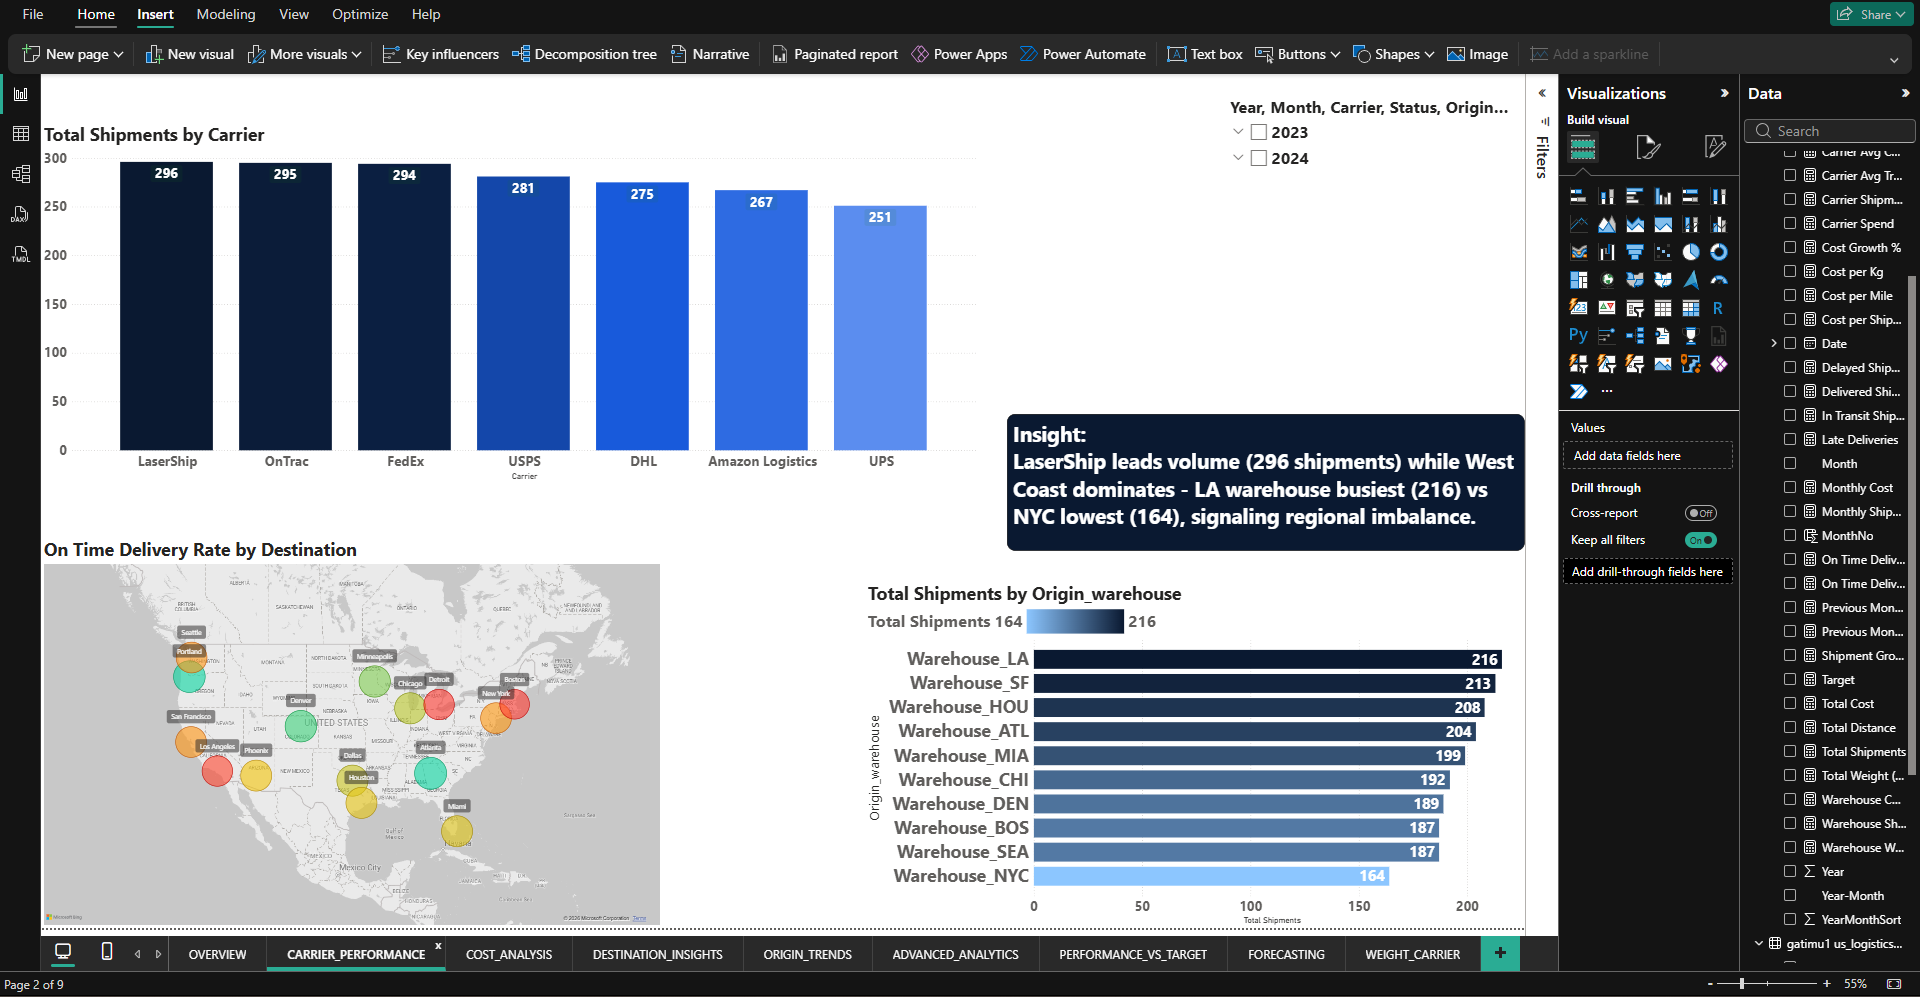

What the dashboard file says about the page in this screenshot:
{"tool":"powerbi","page":{"name":"CARRIER_PERFORMANCE","canvas":[2680,1542],"ordinal":1},"visuals":[{"type":"map","fields":{"Category":["gatimu1 us_logistics_shipments.Destination"],"Size":["Calendar.On Time Delivery Rate"]},"box":[0,836.1,1123.3,706.1],"z":0},{"type":"clusteredBarChart","fields":{"Category":["gatimu1 us_logistics_shipments.Origin_warehouse"],"Y":["Calendar.Total Shipments"]},"box":[1488.1,915.6,1191.9,626.7],"z":1000},{"type":"clusteredColumnChart","fields":{"Category":["gatimu1 us_logistics_shipments.Carrier"],"Y":["Calendar.Total Shipments"]},"box":[0,86.9,1694.9,651.9],"z":2000},{"type":"slicer","fields":{"Values":["Calendar.Year","Calendar.Month","gatimu1 us_logistics_shipments.Carrier","gatimu1 us_logistics_shipments.Status","gatimu1 us_logistics_shipments.Origin_warehouse","gatimu1 us_logistics_shipments.Destination"]},"box":[2134.6,34.3,545.4,274.5],"z":3000},{"type":"textbox","box":[1744.5,614,935.5,247.4],"z":4000}]}

Visuals, with their boxes on the page's 2680x1542 design canvas (x1, y1, x2, y2). These are canvas units, not pixel positions in the 1920x997 screenshot, which may show the page scaled, cropped or inside an application window:
map - gatimu1 us_logistics_shipments.Destination x Calendar.On Time Delivery Rate: detection(0, 836, 1123, 1542)
clusteredBarChart - gatimu1 us_logistics_shipments.Origin_warehouse x Calendar.Total Shipments: detection(1488, 916, 2680, 1542)
clusteredColumnChart - gatimu1 us_logistics_shipments.Carrier x Calendar.Total Shipments: detection(0, 87, 1695, 739)
slicer - Calendar.Year x Calendar.Month: detection(2135, 34, 2680, 309)
textbox: detection(1744, 614, 2680, 861)
